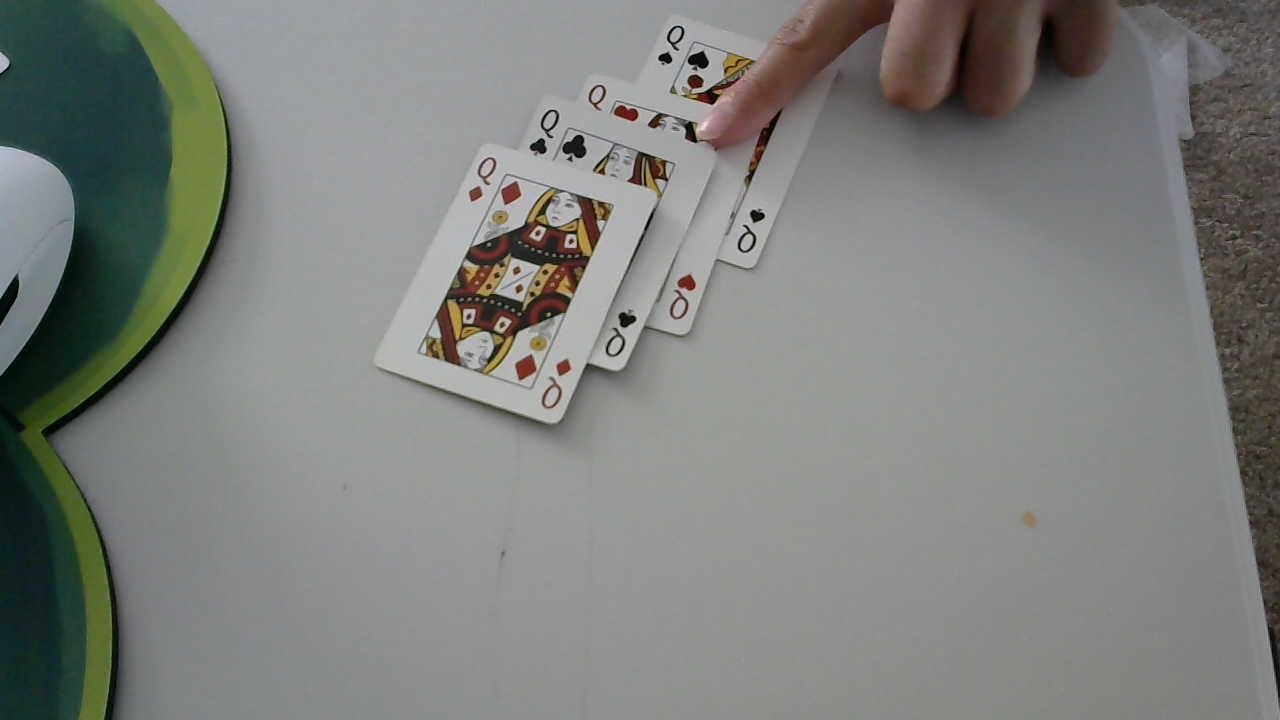QC: (600, 307, 642, 361), (526, 107, 563, 159)
QD: (541, 355, 575, 413), (465, 152, 500, 204)
QH: (669, 268, 699, 329)
QS: (733, 204, 769, 259), (654, 21, 686, 68)
